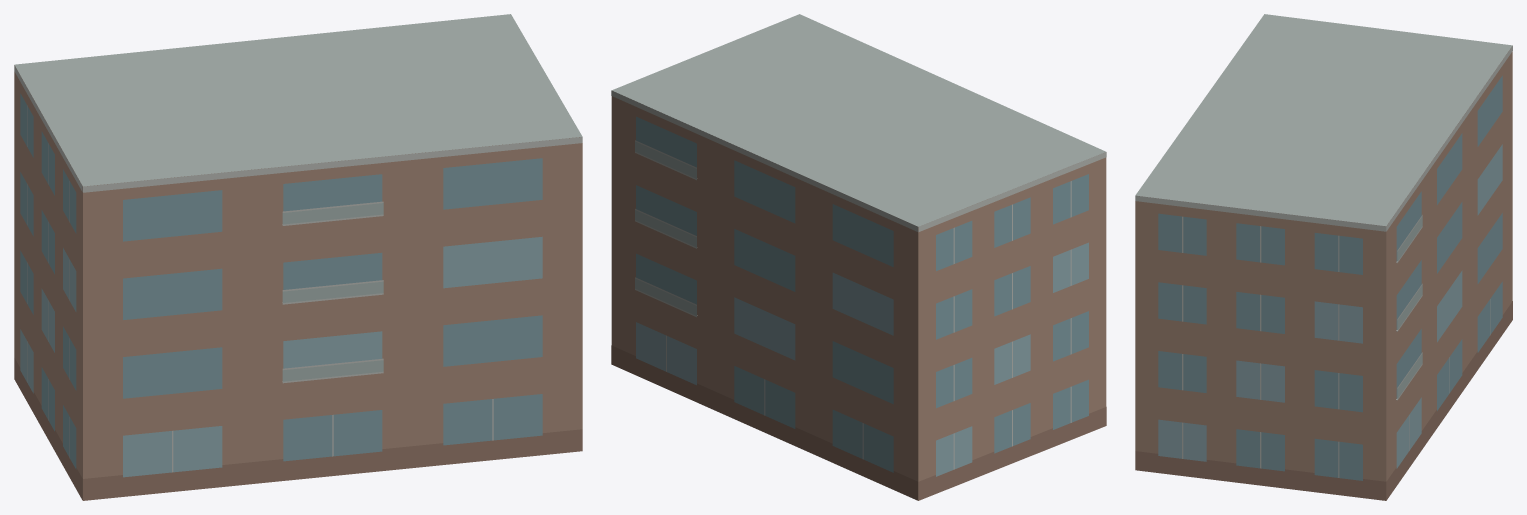
File: survey-upis-32564873.glb
3 renders of one model, left to right at view 1: azimuth 30°, elevation 25°; view 2: azimuth 150°, elevation 25°; view 3: azimuth 270°, elevation 25°, orthographic. The views are drawn at different scales.
Visible parts, largest first — view 1: survey-upis-32564873.tmp; view 2: survey-upis-32564873.tmp; view 3: survey-upis-32564873.tmp.
Boxes of the visible parts, x1,y1,x2,y2 form: survey-upis-32564873.tmp: (14, 14, 582, 500); survey-upis-32564873.tmp: (611, 14, 1106, 500); survey-upis-32564873.tmp: (1135, 14, 1512, 500).
Size of the model in its own units: 20.23 by 12.2 by 15.21.
